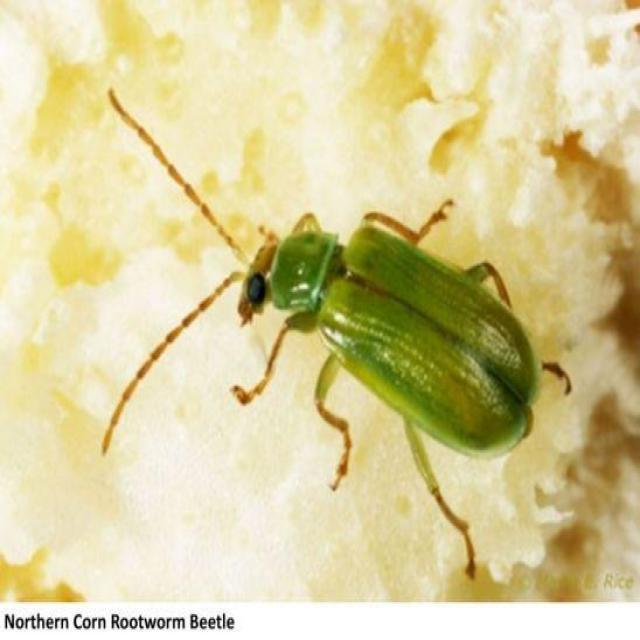gusano_gris: (104, 84, 572, 577)
